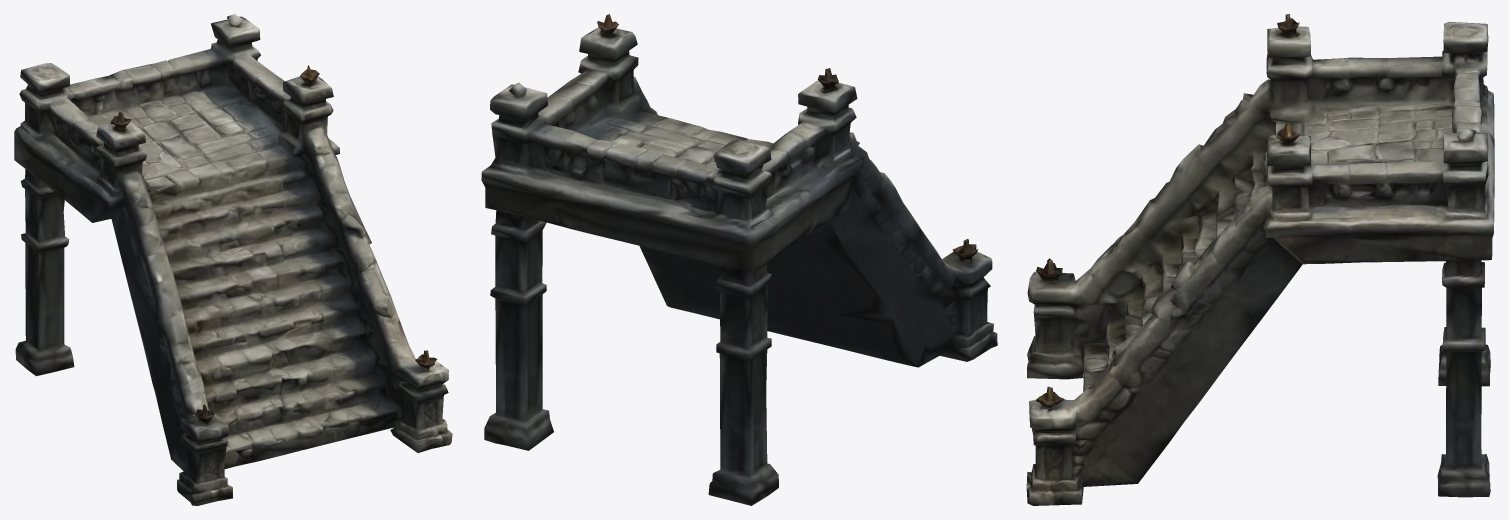
Rendered from dstairs.glb.
3 renders of one model, left to right at view 1: azimuth 30°, elevation 25°; view 2: azimuth 150°, elevation 25°; view 3: azimuth 270°, elevation 25°, orthographic. The views are drawn at different scales.
Visible parts, largest first — view 1: tripo_node_952cee8a-95a5-4726-9f3f-cc7110d67eec; view 2: tripo_node_952cee8a-95a5-4726-9f3f-cc7110d67eec; view 3: tripo_node_952cee8a-95a5-4726-9f3f-cc7110d67eec.
Part boxes in pixels (x1,y1,x2,y2): tripo_node_952cee8a-95a5-4726-9f3f-cc7110d67eec: (14, 14, 452, 505); tripo_node_952cee8a-95a5-4726-9f3f-cc7110d67eec: (481, 14, 997, 505); tripo_node_952cee8a-95a5-4726-9f3f-cc7110d67eec: (1026, 14, 1494, 505).
Bounding box in the file's own units: 0.7571 × 0.855 × 0.9986.
Materials: 1 (1 with a texture image).
